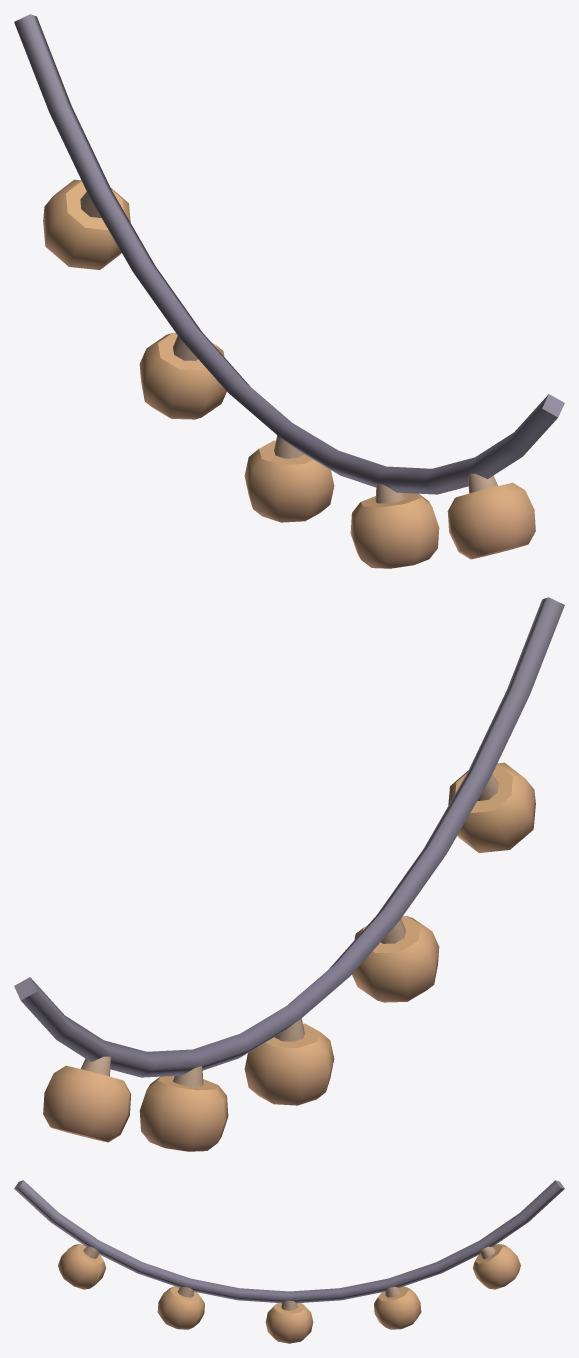
The model's file is lights-fairy-pumpkins (%wall).glb.
3 renders of one model, top to bottom at view 1: azimuth 30°, elevation 25°; view 2: azimuth 150°, elevation 25°; view 3: azimuth 270°, elevation 25°, orthographic. The views are drawn at different scales.
Parts seen in each view (by area): view 1: lights-fairy-pumpkins (%wall); view 2: lights-fairy-pumpkins (%wall); view 3: lights-fairy-pumpkins (%wall).
Boxes of the visible parts, left/top/right/bottom form: lights-fairy-pumpkins (%wall): left=14, top=14, right=564, bottom=568; lights-fairy-pumpkins (%wall): left=14, top=597, right=564, bottom=1151; lights-fairy-pumpkins (%wall): left=14, top=1180, right=564, bottom=1343.
Size of the model in its own units: 0.088 by 0.3192 by 1.02.
